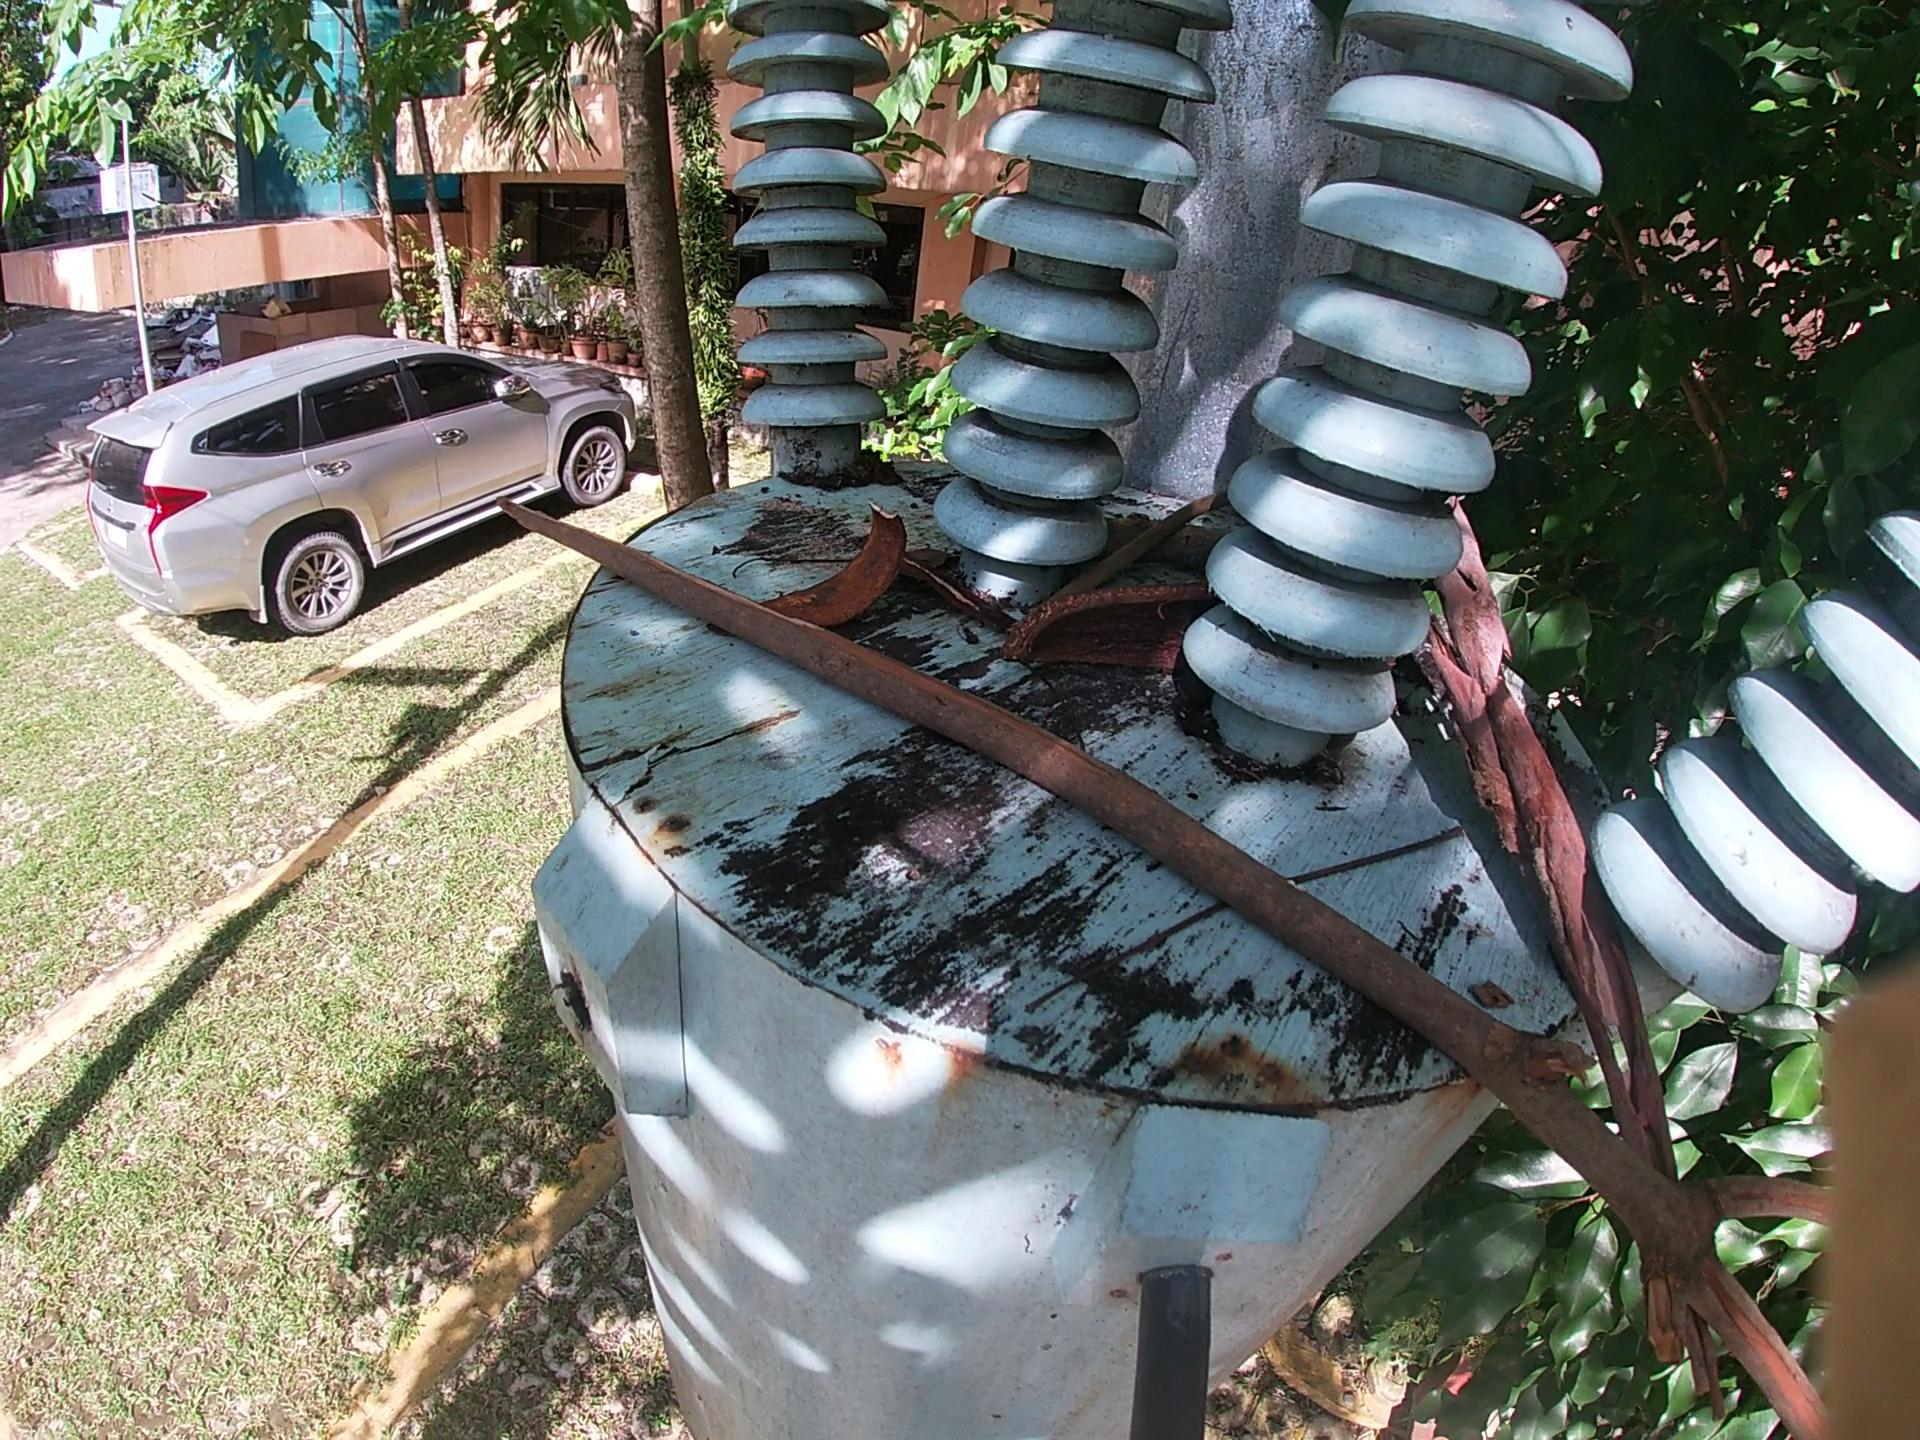mahogany fruit: (992, 579, 1249, 675), (783, 505, 912, 617)
tree branch: (497, 472, 1863, 1429), (1414, 489, 1745, 1405), (1027, 809, 1466, 1032), (1025, 461, 1244, 601), (904, 543, 1011, 634), (1076, 519, 1226, 569), (723, 548, 825, 573)
